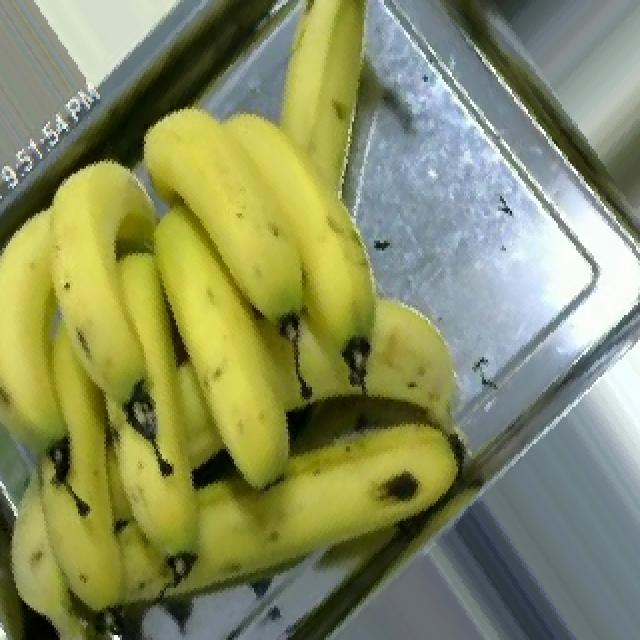banana: (2, 84, 493, 606)
